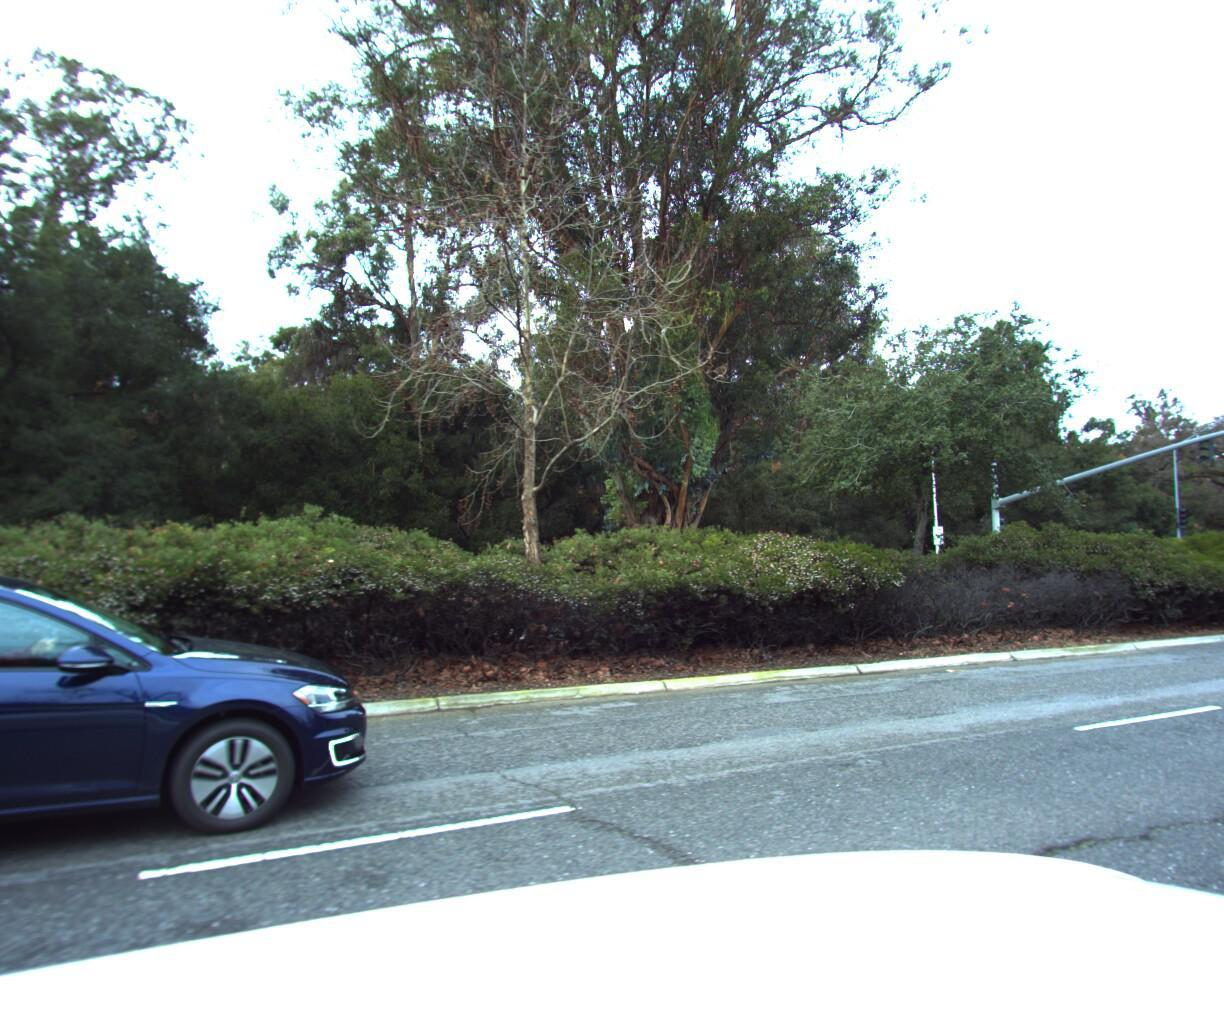car: (0, 551, 397, 973)
